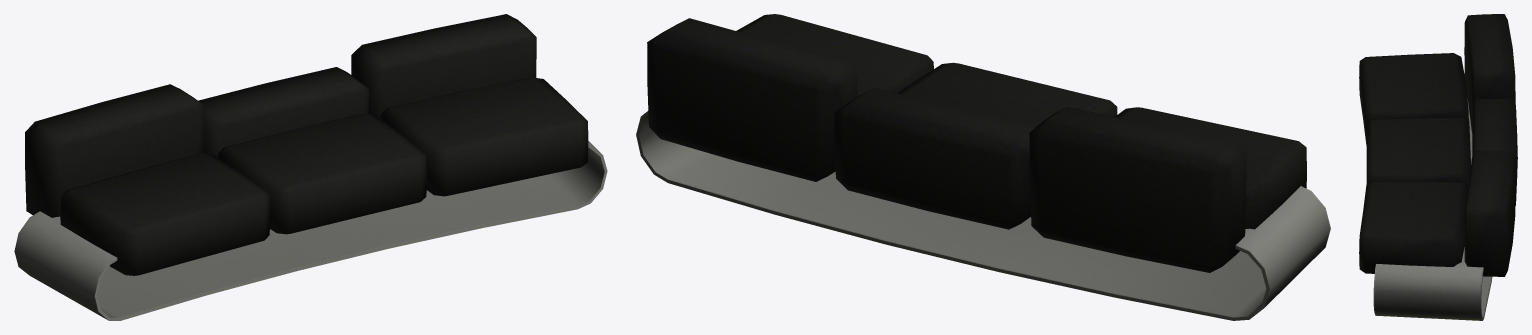
Rendered from NetW_Chair3P02_black.FBX.
3 views of the same model, side by side, from view 1: azimuth 30°, elevation 25°; view 2: azimuth 150°, elevation 25°; view 3: azimuth 270°, elevation 25° (orthographic). The views are drawn at different scales.
Parts seen in each view (by area): view 1: NetW_Chair3P01; view 2: NetW_Chair3P01; view 3: NetW_Chair3P01.
Boxes of the visible parts, x1,y1,x2,y2 form: NetW_Chair3P01: (14,14,607,320); NetW_Chair3P01: (636,14,1330,320); NetW_Chair3P01: (1359,14,1517,320).
Bounding box in the file's own units: 2.96 × 0.7548 × 0.928.
